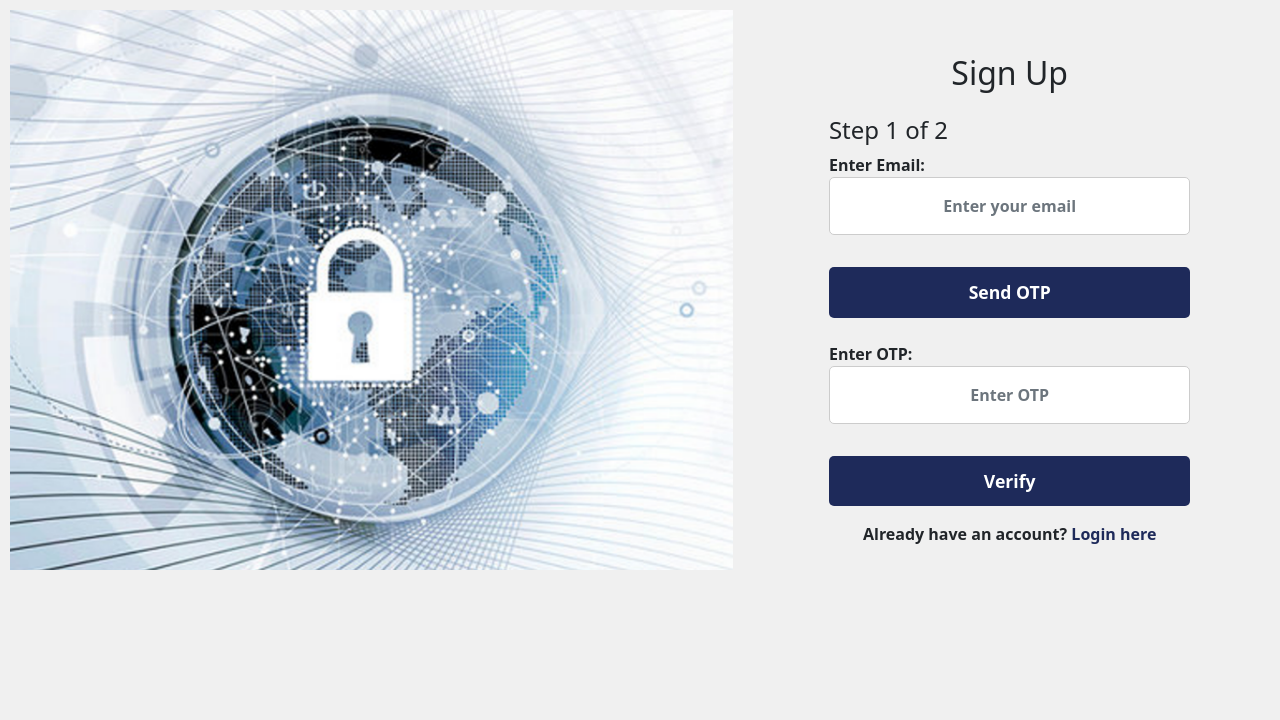
Register Component › displays error message when OTP sending fails
This screenshot has width=1280, height=720.
# Simulate user entering email
In the field with placeholder "Enter your email": (1010, 206) [829,177,1190,235], type "test@example.com"
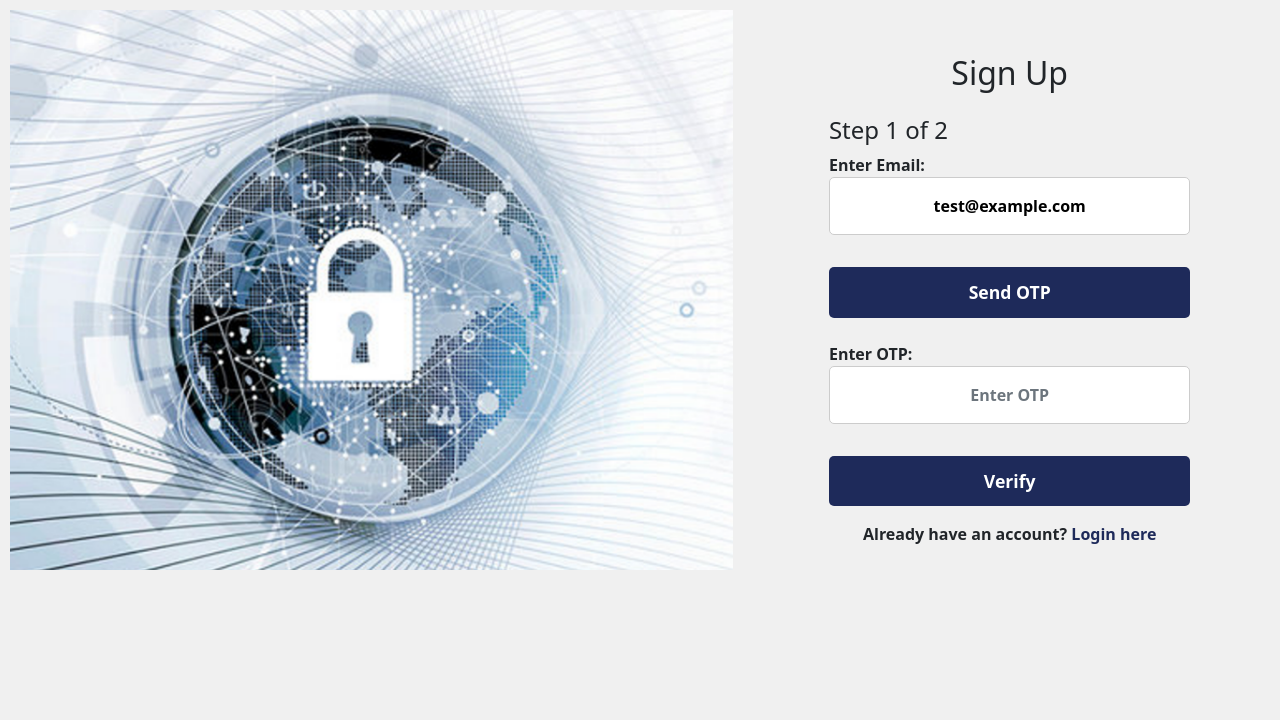
# Simulate clicking the Send OTP button
Click the button "Send OTP": (1010, 292) [829,267,1190,318]
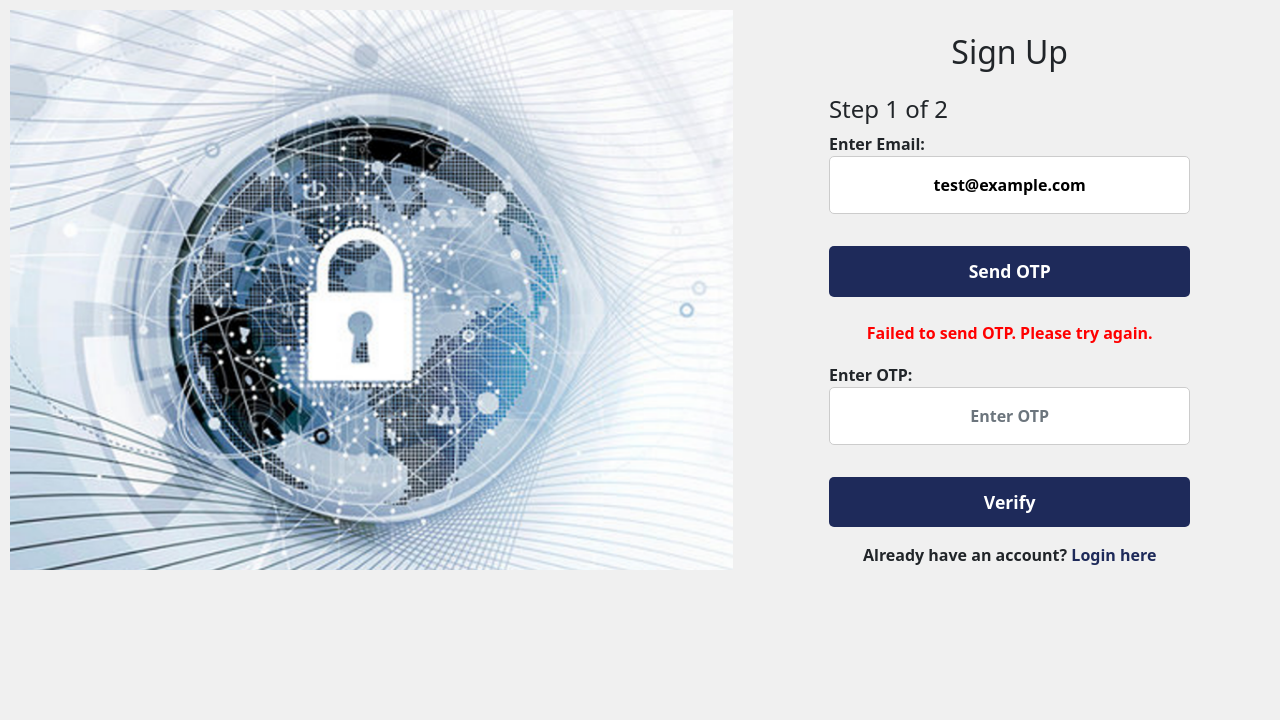
Expected: the text "Failed to send OTP. Please try again." is shown, [867,322,1153,344]
